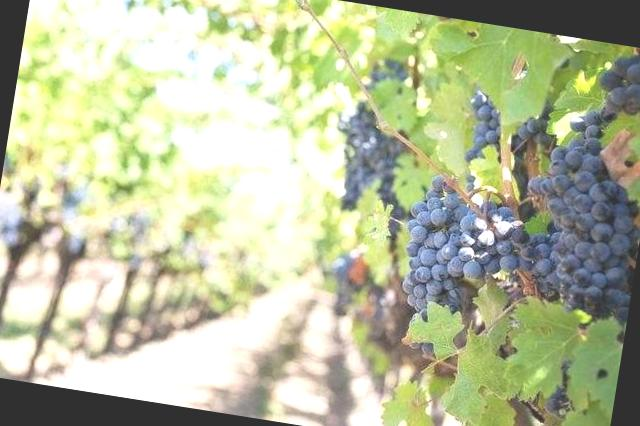Grape Ripe: (521, 118, 640, 306), (394, 168, 488, 332), (432, 66, 546, 184), (452, 157, 528, 302), (333, 102, 384, 208)
